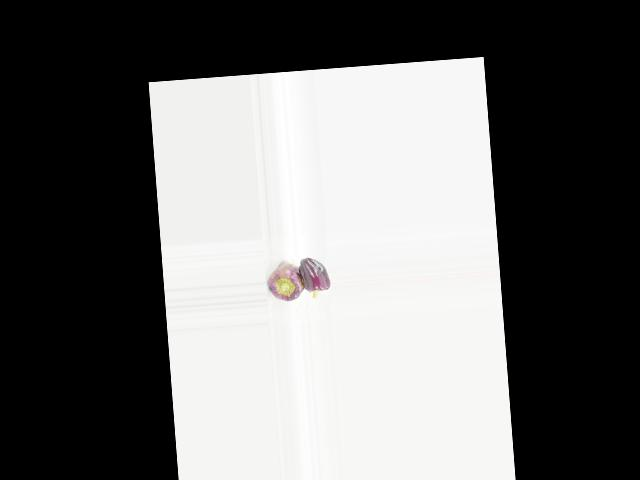bell_pepper: (264, 251, 306, 310)
